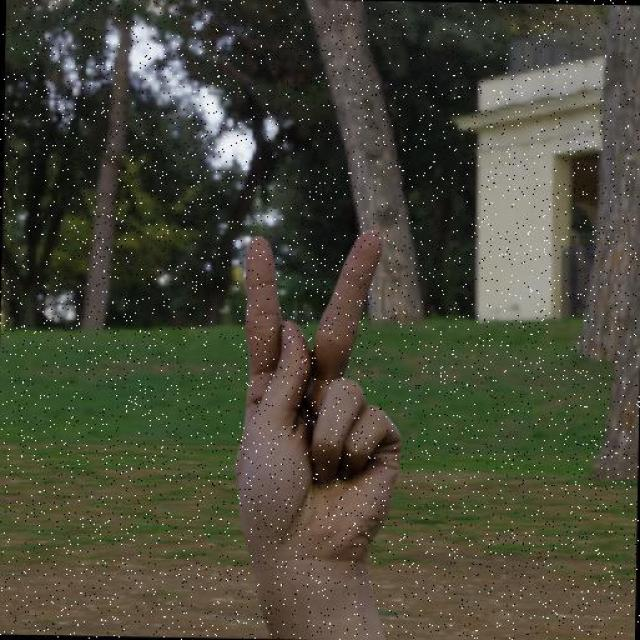K: (230, 223, 409, 566)
